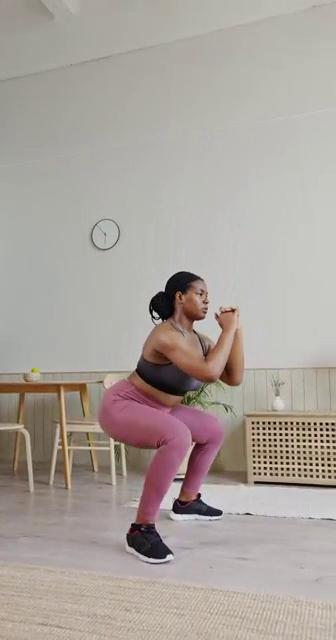Squat: (94, 268, 251, 569)
